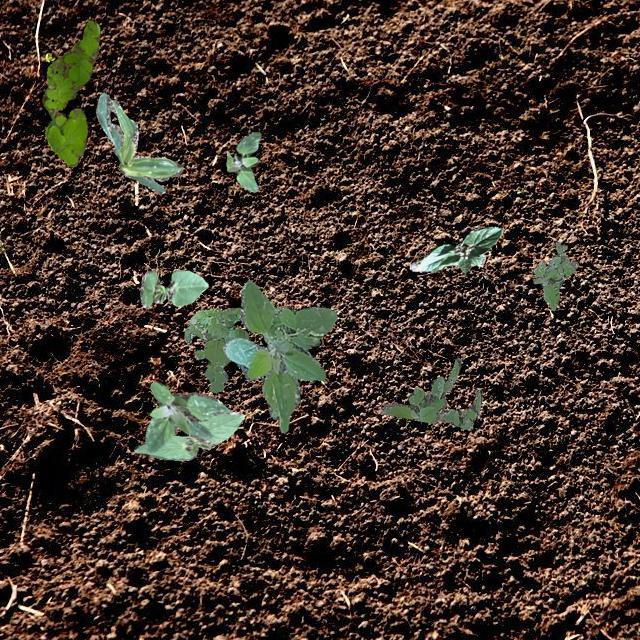crop: (222, 279, 336, 432), (95, 92, 182, 194), (132, 410, 244, 460), (408, 226, 502, 272), (138, 268, 206, 308)
weed: (42, 20, 98, 166), (379, 356, 482, 429), (144, 380, 230, 452), (184, 306, 248, 392), (532, 240, 578, 310), (226, 130, 260, 190)
